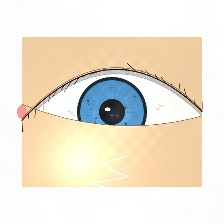foreign_body_visible: (74, 128, 104, 152)
